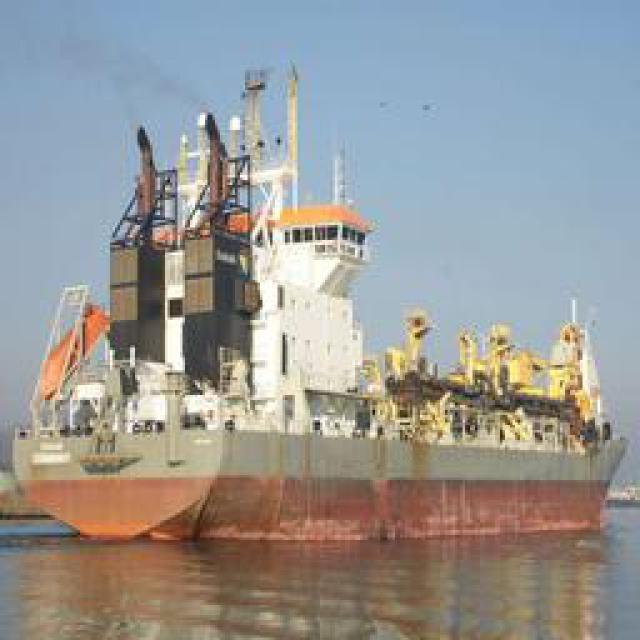Ship: (19, 260, 619, 545)
